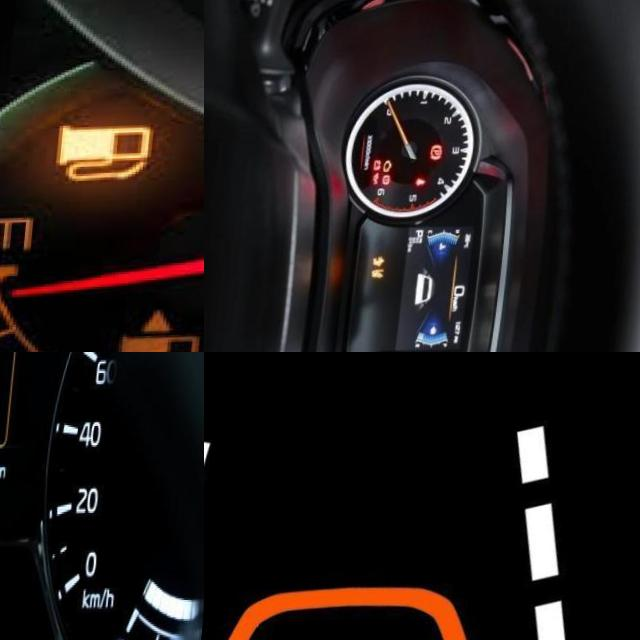Seat Belt: (419, 180, 431, 189)
